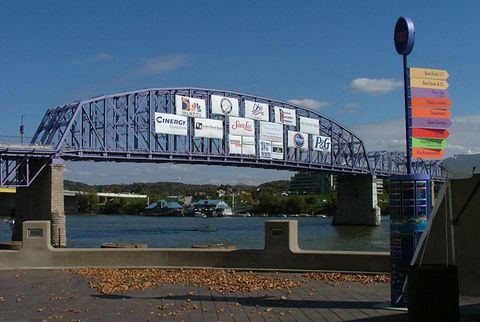bridge: (31, 87, 445, 182)
